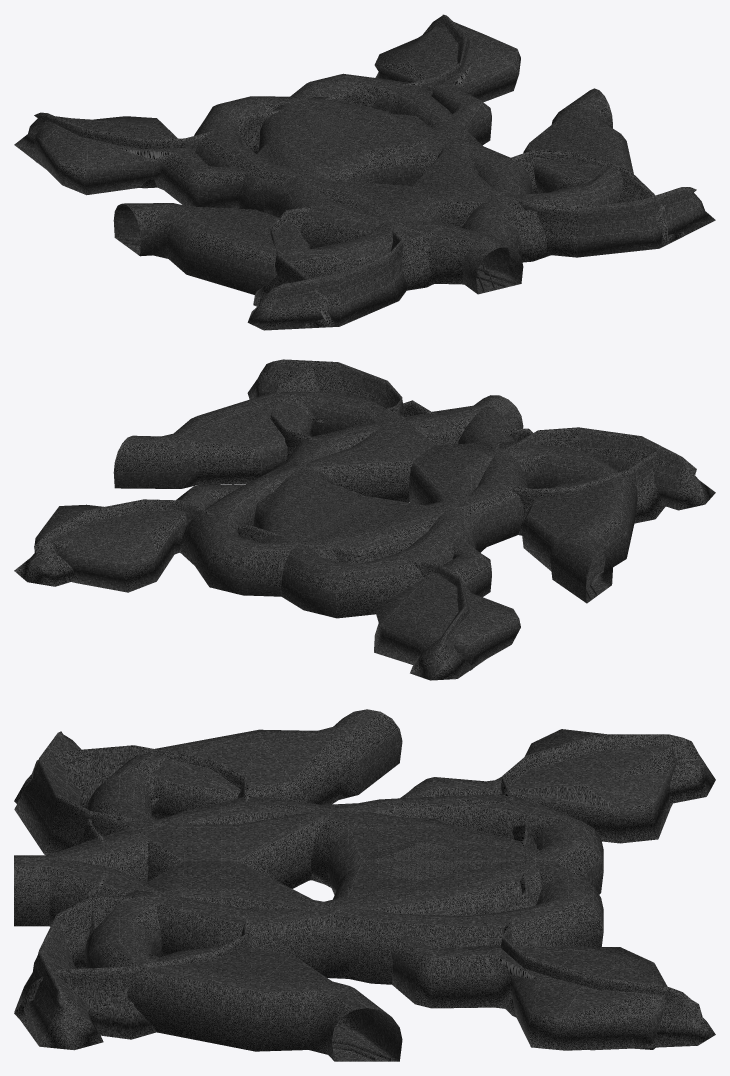
Rendered from L Cave.fbx.
The picture shows the model from 3 angles, top to bottom: view 1: azimuth 30°, elevation 25°; view 2: azimuth 150°, elevation 25°; view 3: azimuth 270°, elevation 25°; orthographic projection. The views are drawn at different scales.
Parts seen in each view (by area): view 1: polySurface4 (×2), Tunnel_6 (×2), Tunnel_1 (×2), Tunnel_2 (×2), Tunnel_3 (×2), Tunnel_5 (×2); view 2: polySurface4 (×2), Tunnel_6 (×2), Tunnel_2 (×2), Tunnel_1 (×2); view 3: polySurface4 (×2), Tunnel_6 (×2), Tunnel_2 (×2), Tunnel_1 (×2).
Boxes of the visible parts, <box> form: polySurface4 (×2): <box>34,22,633,294</box>; Tunnel_6 (×2): <box>247,187,715,330</box>; Tunnel_1 (×2): <box>253,149,684,326</box>; Tunnel_2 (×2): <box>14,14,469,188</box>; Tunnel_3 (×2): <box>381,210,550,290</box>; Tunnel_5 (×2): <box>237,88,377,153</box>; polySurface4 (×2): <box>34,391,637,670</box>; Tunnel_6 (×2): <box>247,359,715,510</box>; Tunnel_2 (×2): <box>14,499,484,680</box>; Tunnel_1 (×2): <box>270,368,665,535</box>; polySurface4 (×2): <box>14,709,677,1061</box>; Tunnel_6 (×2): <box>14,731,139,1050</box>; Tunnel_2 (×2): <box>500,734,715,1050</box>; Tunnel_1 (×2): <box>14,745,250,1039</box>.
Bounding box in the file's own units: 20 × 1.97 × 19.88.
